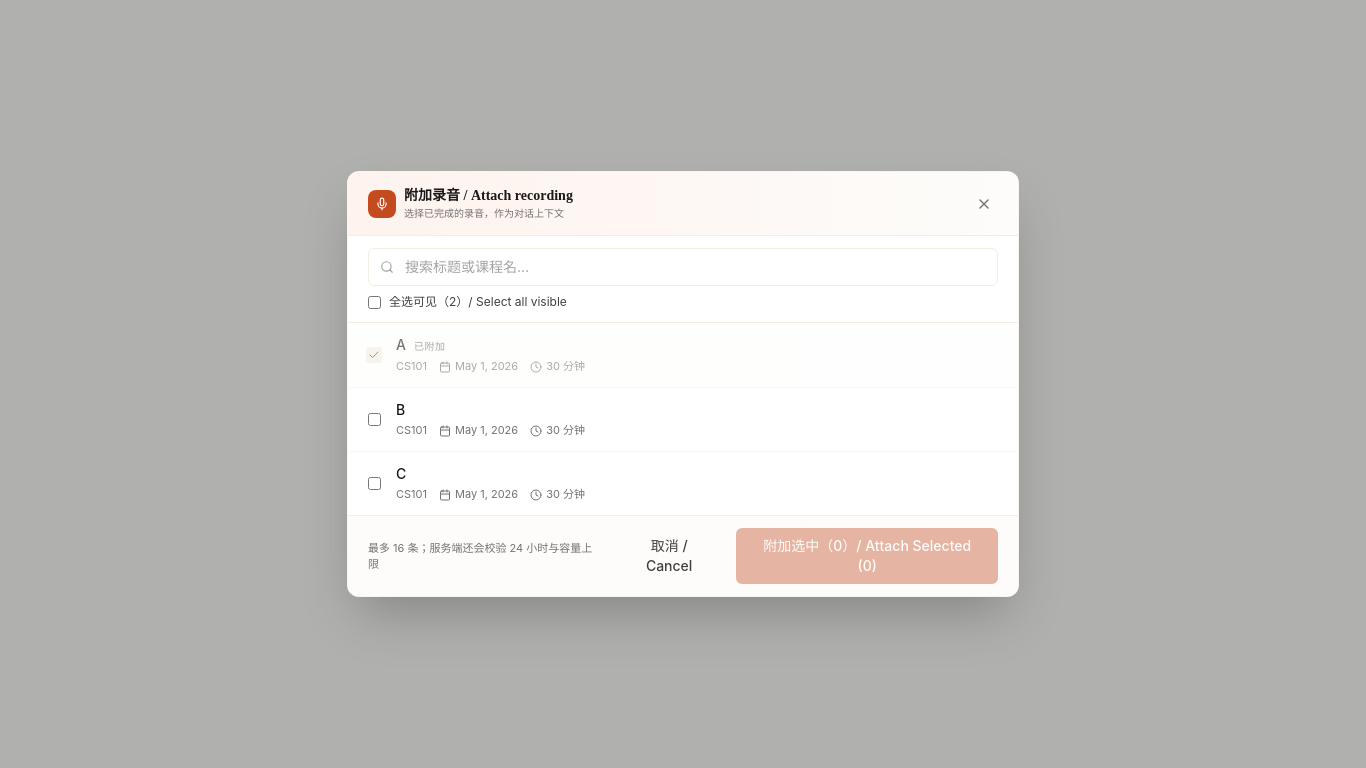
Test case: RecordingPicker (component) › "全选可见" 复选框把所有未附加项加入 selected
Expected: the option with test id "recording-row-b" is shown, [348, 387, 1018, 451]
Step 1. Click the checkbox labelled "全选可见" → [374, 302], box [368, 296, 381, 308]
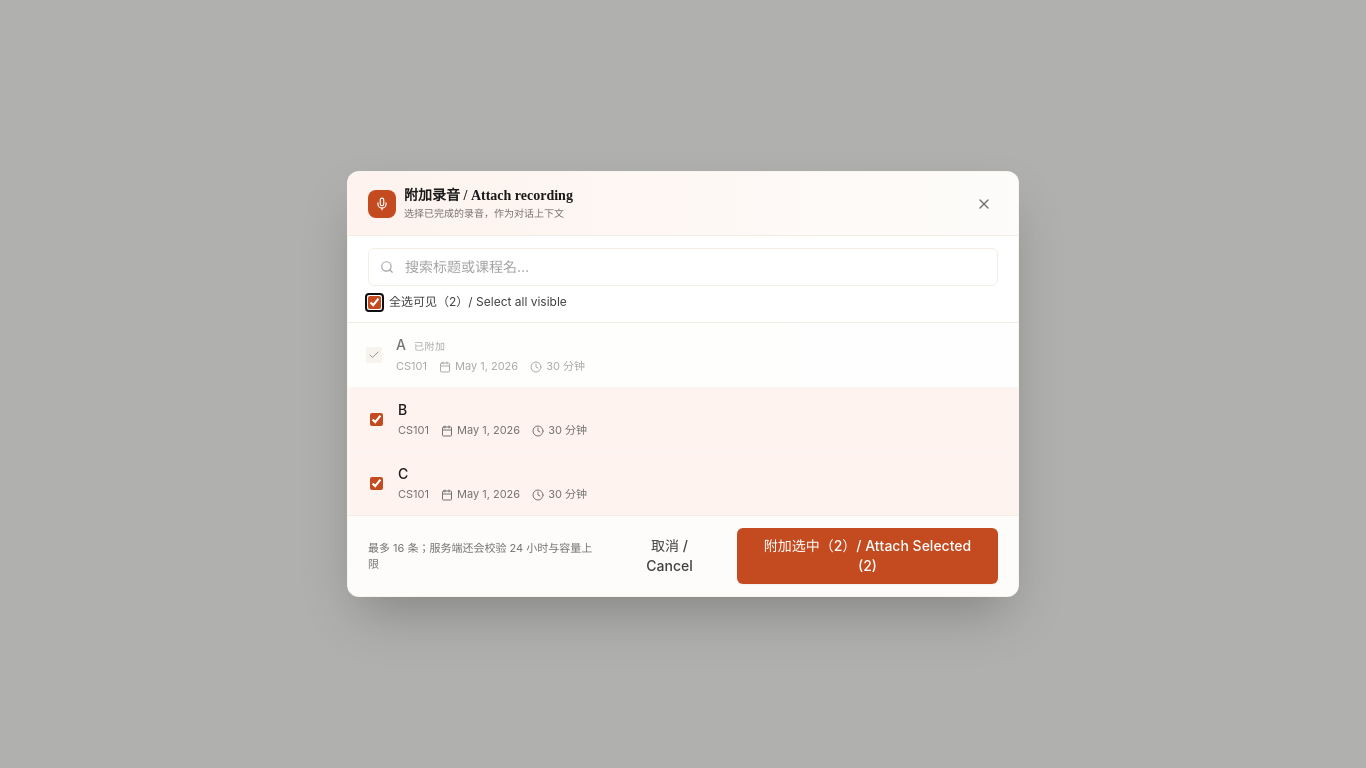
Expected: the button "附加选中（2）/ Attach Selected (2)" is shown, [737, 528, 998, 584]
